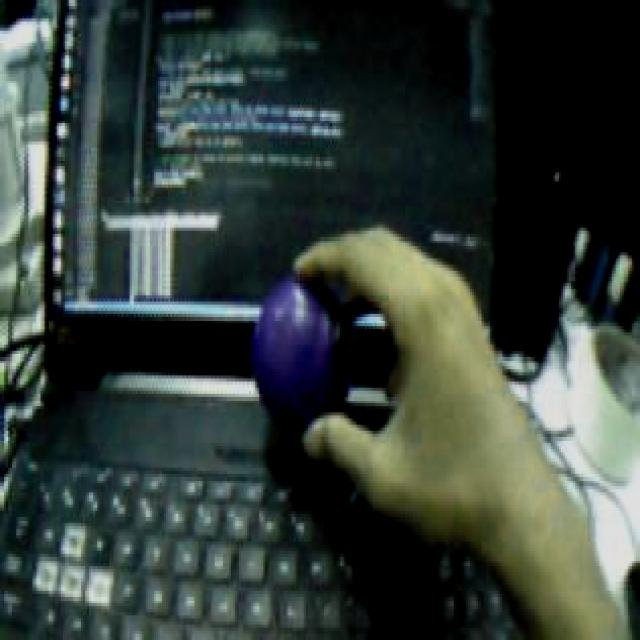BallPurple: (252, 277, 352, 431)
